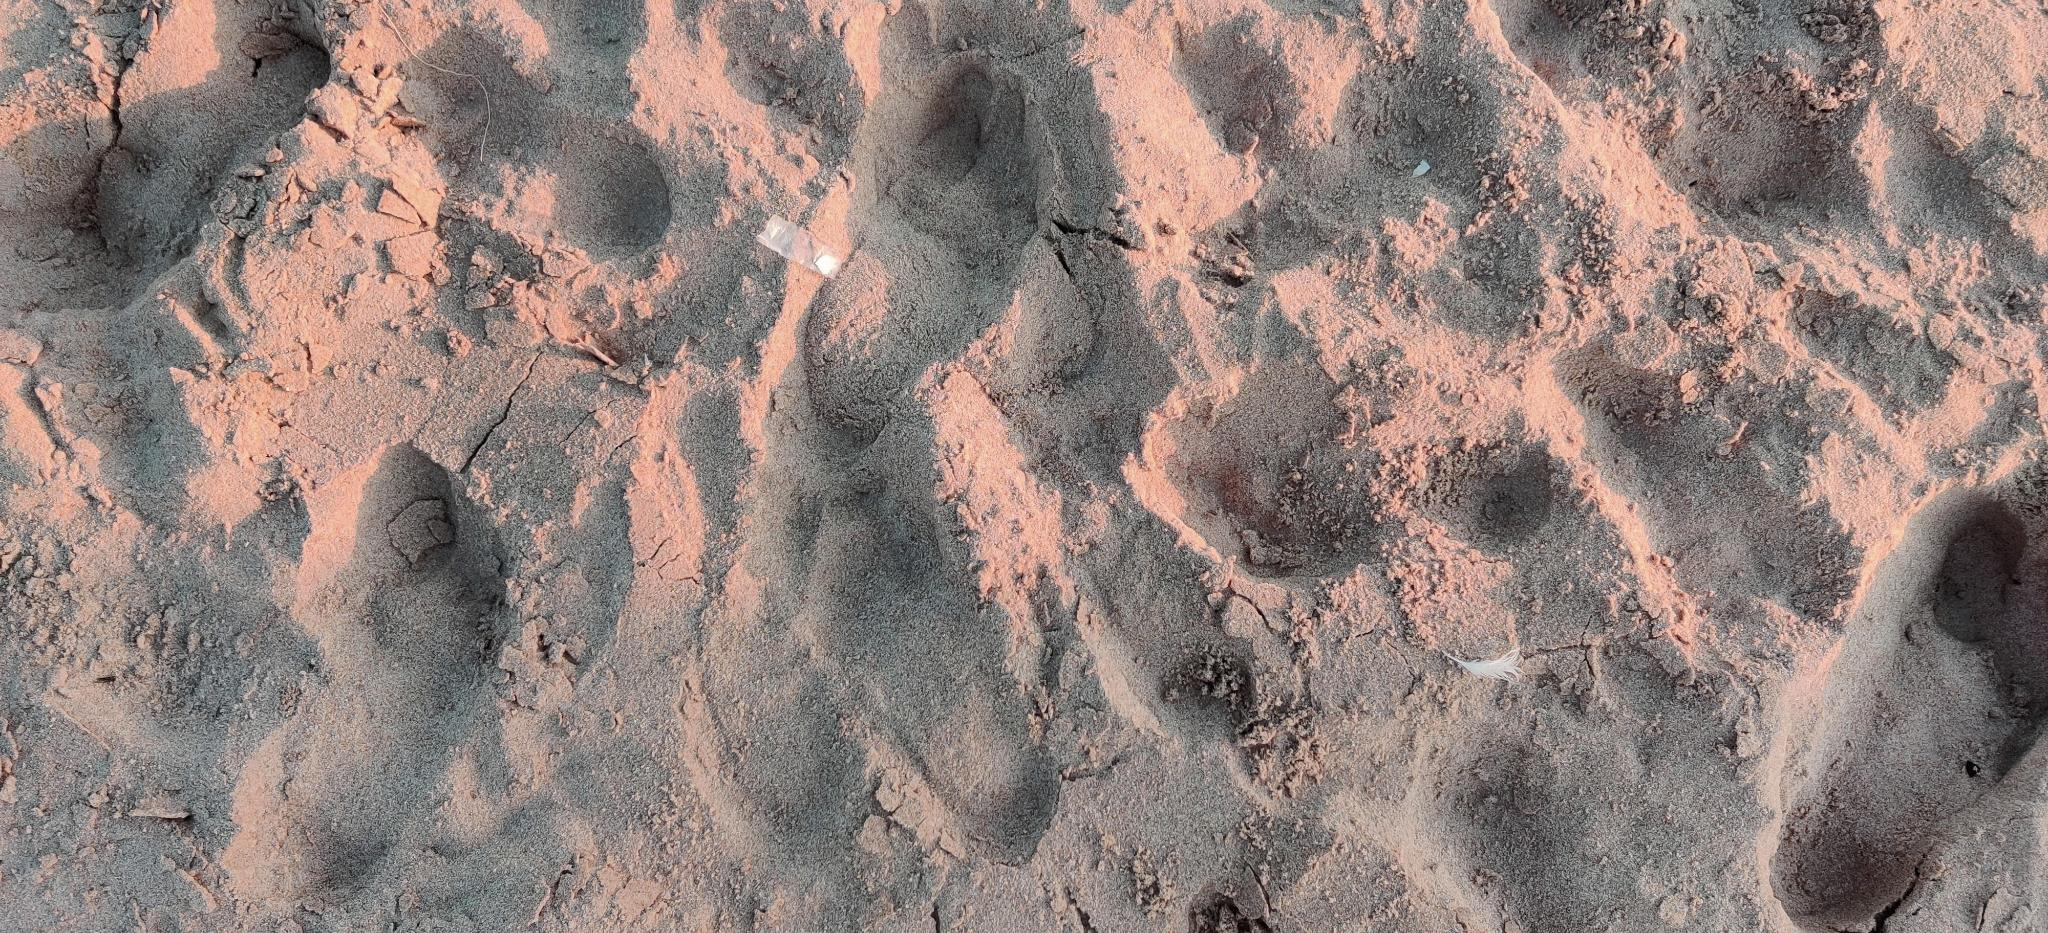Plastic: (754, 210, 852, 284)
